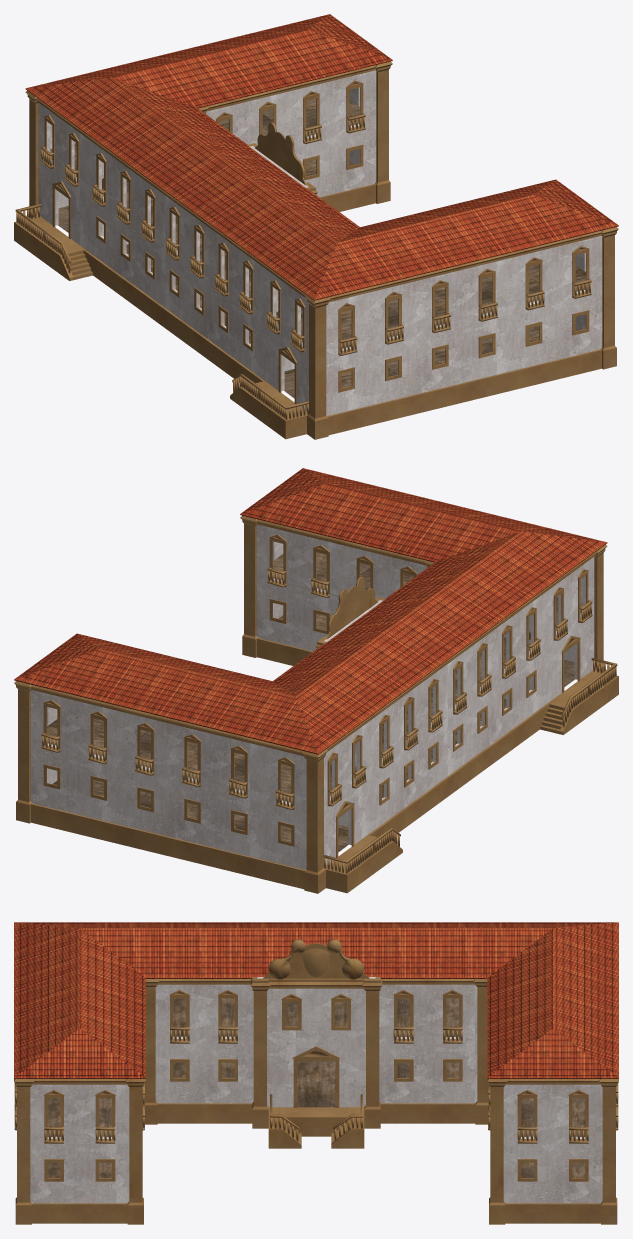
File: Low_Poly_Portuguese_Palace.glb
3 views of the same model, one above another, from view 1: azimuth 30°, elevation 25°; view 2: azimuth 150°, elevation 25°; view 3: azimuth 270°, elevation 25° (orthographic). The views are drawn at different scales.
Parts seen in each view (by area): view 1: unnamed (×4); view 2: unnamed (×4); view 3: unnamed (×4).
Boxes of the visible parts, box(x1,y1,x2,y2) form: unnamed (×4): box(14, 14, 618, 439); unnamed (×4): box(14, 468, 618, 893); unnamed (×4): box(14, 922, 618, 1224).
Bounding box in the file's own units: 8.29 × 4.35 × 12.78.
Materials: 4 (4 with a texture image).
